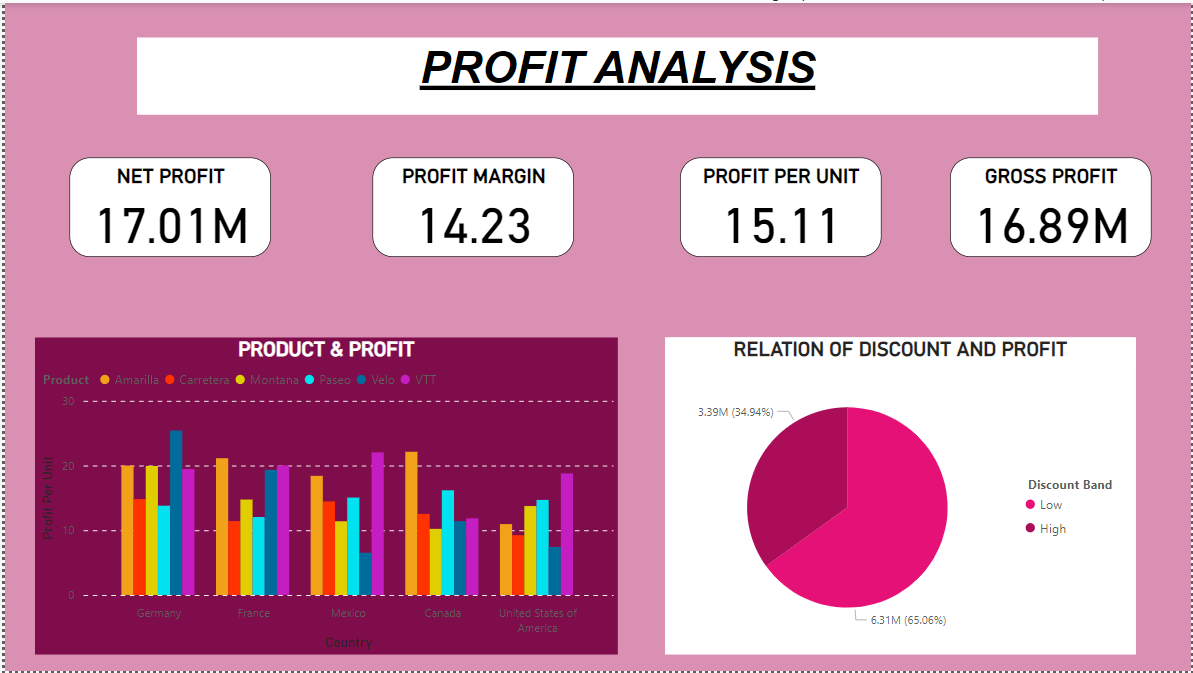

What the dashboard file says about the page in this screenshot:
{"tool":"powerbi","page":{"name":"Profit","canvas":[1280,720],"ordinal":2},"visuals":[{"type":"card","title":"PROFIT PER UNIT","fields":{"Values":["financial sample dataset.Profit Per Unit"]},"box":[728.7,166.1,217.1,107.6],"z":0},{"type":"card","title":"PROFIT MARGIN","fields":{"Values":["financial sample dataset.Profit Margin"]},"box":[396.5,166.1,217.1,107.6],"z":1000},{"type":"card","title":"GROSS PROFIT","fields":{"Values":["financial sample dataset.Gross Profit"]},"box":[1019.5,166.1,217.1,107.6],"z":2000},{"type":"card","title":"NET PROFIT","fields":{"Values":["financial sample dataset.Net Profit"]},"box":[69.9,166.1,217.1,107.6],"z":3000},{"type":"pieChart","title":"RELATION OF DISCOUNT AND PROFIT","fields":{"Y":["Sum(financial sample dataset. Profit )"],"Category":["financial sample dataset. Discount Band "]},"box":[711.7,360.6,507.8,341.7],"z":4000},{"type":"textbox","box":[141.6,37.8,1036.5,83.1],"z":5000},{"type":"lineClusteredColumnComboChart","title":"PRODUCT & PROFIT ","fields":{"Category":["financial sample dataset.Country"],"Y":["financial sample dataset.Profit Per Unit"],"Series":["financial sample dataset. Product "]},"box":[32.1,360.6,628.7,341.7],"z":6000}]}

Visuals, with their boxes in screenshot pixels (x1, y1, x2, y2), scaled from the page's 1280x720 canvas onto the 1193x673 screenshot:
"PROFIT PER UNIT" card: box(679, 155, 882, 256)
"PROFIT MARGIN" card: box(370, 155, 572, 256)
"GROSS PROFIT" card: box(950, 155, 1153, 256)
"NET PROFIT" card: box(65, 155, 267, 256)
"RELATION OF DISCOUNT AND PROFIT" pieChart: box(663, 337, 1137, 656)
textbox: box(132, 35, 1098, 113)
"PRODUCT & PROFIT " lineClusteredColumnComboChart: box(30, 337, 616, 656)
